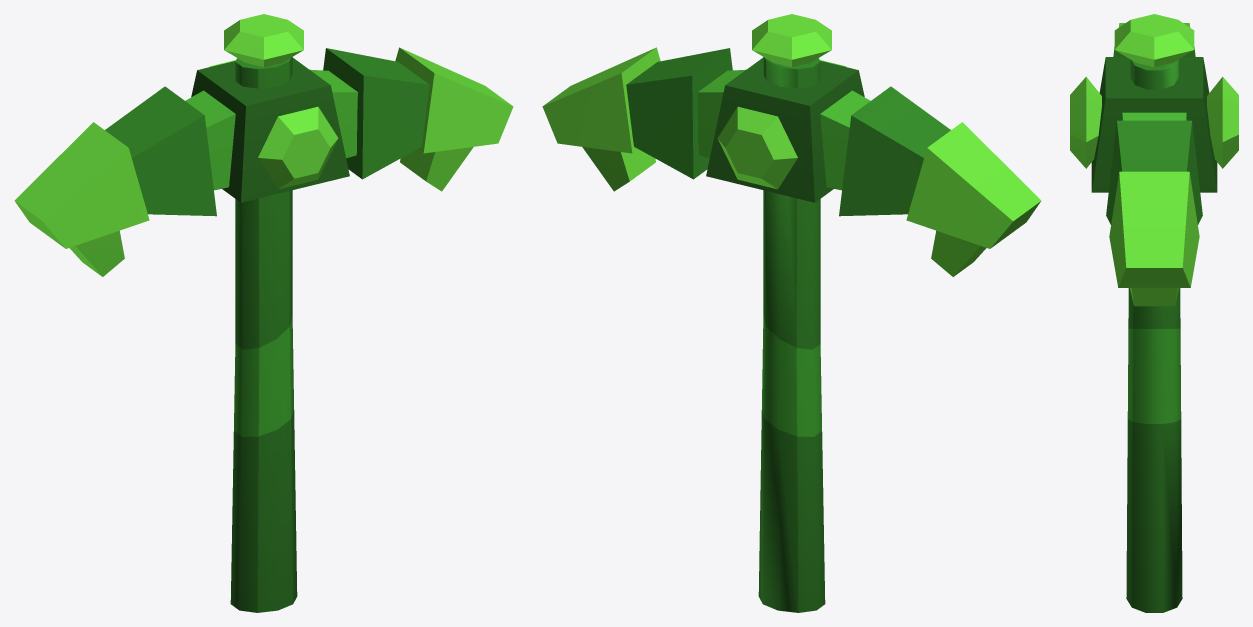
Rendered from 11_pickaxe_Green.fbx.
3 views of the same model, side by side, from view 1: azimuth 30°, elevation 25°; view 2: azimuth 150°, elevation 25°; view 3: azimuth 270°, elevation 25° (orthographic).
Parts seen in each view (by area): view 1: 11_pickaxe_Green; view 2: 11_pickaxe_Green; view 3: 11_pickaxe_Green.
Part boxes in pixels (x1,y1,x2,y2): 11_pickaxe_Green: [14, 14, 513, 612]; 11_pickaxe_Green: [542, 14, 1041, 612]; 11_pickaxe_Green: [1070, 14, 1238, 612].
Size of the model in its own units: 102 by 118 by 31.65.
